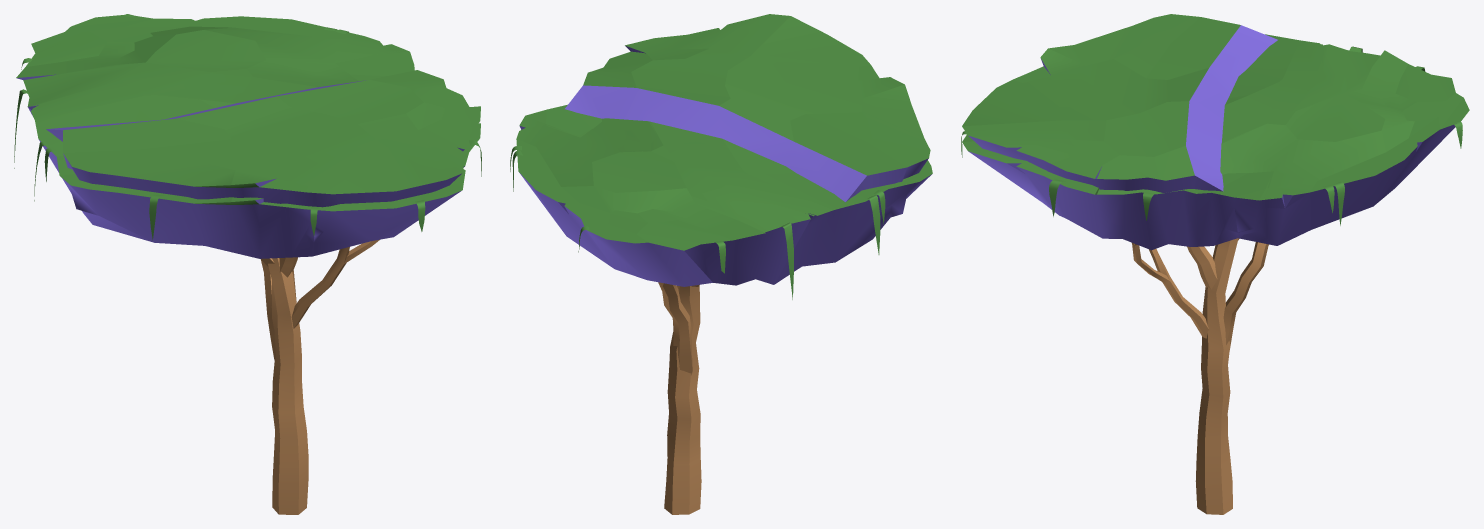
File: tree_C_canopy_D_solo.fbx
The picture shows the model from 3 angles, left to right: view 1: azimuth 30°, elevation 25°; view 2: azimuth 150°, elevation 25°; view 3: azimuth 270°, elevation 25°; orthographic projection. The views are drawn at different scales.
Parts seen in each view (by area): view 1: tree_C_canopy_D_leveled, tree_C_canopy_D, tree_C_canopy_D_trunks_A, tree_C_canopy_D_trunk_I2, tree_C_canopy_D_trunks_D; view 2: tree_C_canopy_D_leveled, tree_C_canopy_D, tree_C_canopy_D_trunks_A, tree_C_canopy_D_trunks_D; view 3: tree_C_canopy_D_leveled, tree_C_canopy_D, tree_C_canopy_D_trunks_A, tree_C_canopy_D_trunks_D, tree_C_canopy_D_trunk_I2, tree_C_canopy_D_trunks_B.
Part boxes in pixels (x1=…): tree_C_canopy_D_leveled: x1=28, y1=35, x2=480, y2=207; tree_C_canopy_D: x1=16, y1=14, x2=480, y2=258; tree_C_canopy_D_trunks_A: x1=268, y1=258, x2=308, y2=514; tree_C_canopy_D_trunk_I2: x1=291, y1=239, x2=379, y2=328; tree_C_canopy_D_trunks_D: x1=261, y1=260, x2=275, y2=361; tree_C_canopy_D_leveled: x1=519, y1=14, x2=930, y2=223; tree_C_canopy_D: x1=516, y1=104, x2=932, y2=286; tree_C_canopy_D_trunks_A: x1=664, y1=285, x2=701, y2=514; tree_C_canopy_D_trunks_D: x1=658, y1=282, x2=692, y2=375; tree_C_canopy_D_leveled: x1=962, y1=14, x2=1379, y2=245; tree_C_canopy_D: x1=962, y1=34, x2=1469, y2=250; tree_C_canopy_D_trunks_A: x1=1195, y1=238, x2=1238, y2=514; tree_C_canopy_D_trunks_D: x1=1223, y1=242, x2=1268, y2=349; tree_C_canopy_D_trunk_I2: x1=1132, y1=243, x2=1208, y2=338; tree_C_canopy_D_trunks_B: x1=1187, y1=246, x2=1217, y2=289.
Size of the model in its own units: 412 by 434 by 505.
